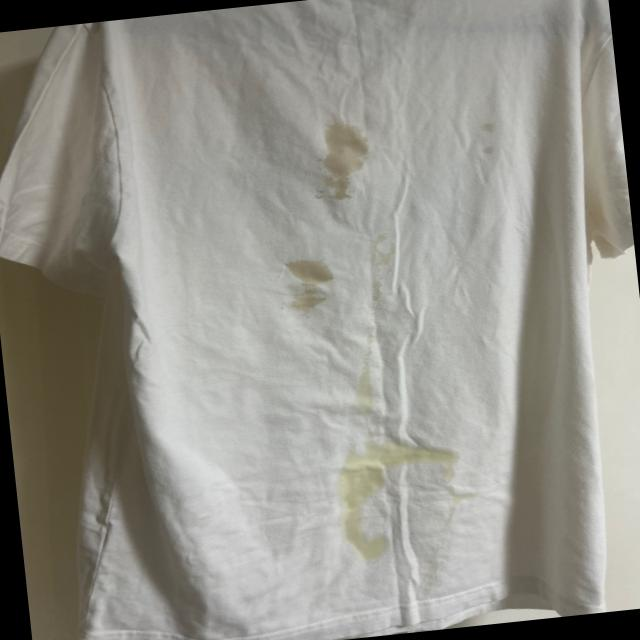stain: (323, 474, 406, 570), (324, 430, 462, 486), (304, 109, 368, 210), (266, 249, 328, 326), (330, 348, 382, 414), (357, 237, 404, 296), (468, 119, 508, 163)
